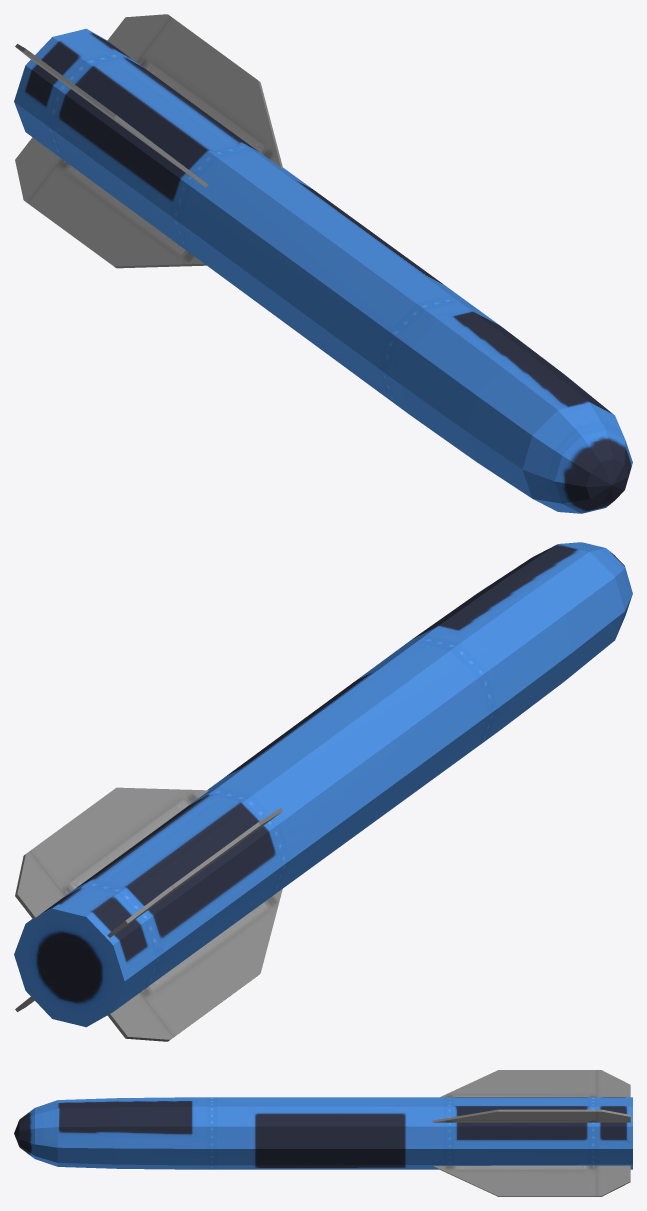
Rendered from Missile.fbx.
3 views of the same model, one above another, from view 1: azimuth 30°, elevation 25°; view 2: azimuth 150°, elevation 25°; view 3: azimuth 270°, elevation 25° (orthographic). The views are drawn at different scales.
Parts seen in each view (by area): view 1: missile; view 2: missile; view 3: missile.
Boxes of the visible parts, x1=… form: missile: x1=14, y1=14, x2=632, y2=513; missile: x1=14, y1=542, x2=632, y2=1041; missile: x1=14, y1=1070, x2=632, y2=1196.
Bounding box in the file's own units: 27.92 × 27.92 × 179.
Materials: 1 (1 with a texture image).
